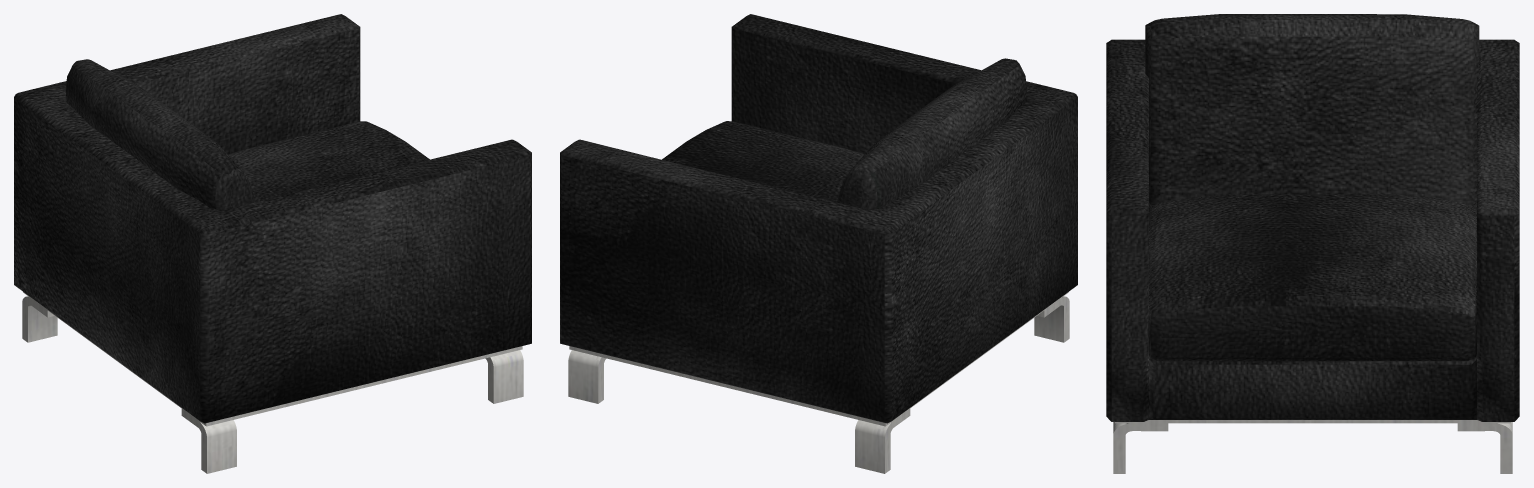
File: armchair_1.obj
3 views of the same model, side by side, from view 1: azimuth 30°, elevation 25°; view 2: azimuth 150°, elevation 25°; view 3: azimuth 270°, elevation 25° (orthographic). The views are drawn at different scales.
Parts seen in each view (by area): view 1: armchair_1; view 2: armchair_1; view 3: armchair_1.
Boxes of the visible parts, x1,y1,x2,y2 form: armchair_1: (14,14,531,473); armchair_1: (560,14,1077,473); armchair_1: (1106,14,1519,473).
Size of the model in its own units: 9.16 by 7.5 by 9.02.
Materials: 1 (1 with a texture image).
